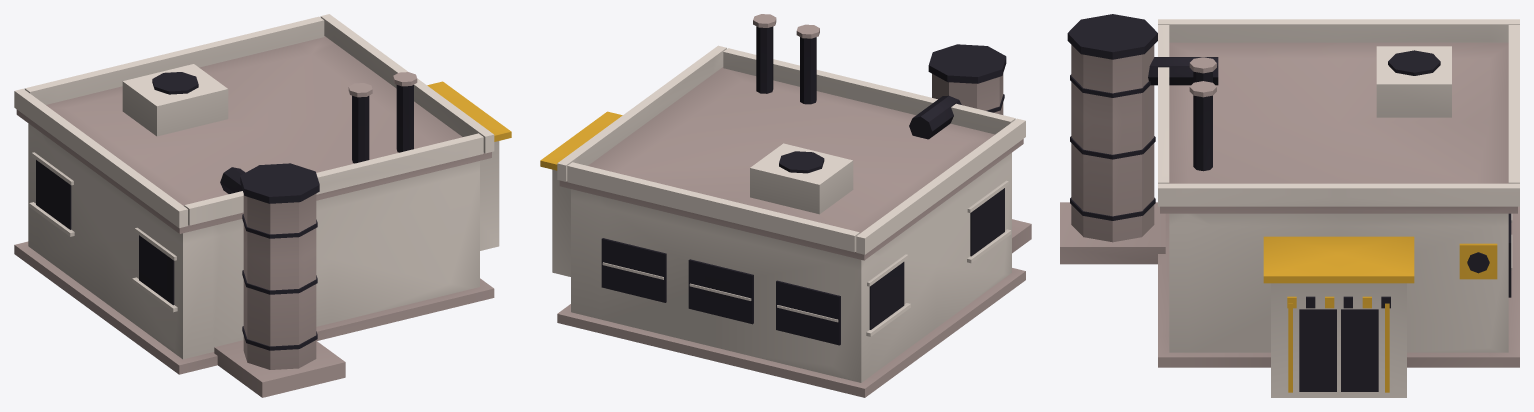
3 renders of one model, left to right at view 1: azimuth 30°, elevation 25°; view 2: azimuth 150°, elevation 25°; view 3: azimuth 270°, elevation 25°, orthographic. The views are drawn at different scales.
Parts seen in each view (by area): view 1: body_pal_picketWhite, body_pal_sidewalk, body_pal_uiDark, body_pal_schoolBusYellow; view 2: body_pal_picketWhite, body_pal_sidewalk, body_pal_uiDark, body_pal_schoolBusYellow; view 3: body_pal_sidewalk, body_pal_picketWhite, body_pal_uiDark, body_pal_schoolBusYellow.
Part boxes in pixels (left/top/right/bottom): body_pal_picketWhite: left=14, top=14, right=499, bottom=359; body_pal_sidewalk: left=14, top=36, right=494, bottom=397; body_pal_uiDark: left=36, top=72, right=413, bottom=350; body_pal_schoolBusYellow: left=427, top=81, right=511, bottom=141; body_pal_picketWhite: left=552, top=45, right=1025, bottom=382; body_pal_sidewalk: left=557, top=14, right=1031, bottom=397; body_pal_uiDark: left=601, top=26, right=1006, bottom=345; body_pal_schoolBusYellow: left=540, top=111, right=622, bottom=170; body_pal_sidewalk: left=1060, top=42, right=1519, bottom=367; body_pal_picketWhite: left=1158, top=19, right=1519, bottom=397; body_pal_uiDark: left=1067, top=14, right=1511, bottom=391; body_pal_schoolBusYellow: left=1263, top=236, right=1497, bottom=392.
Size of the model in its own units: 12.8 by 7.15 by 12.2.
